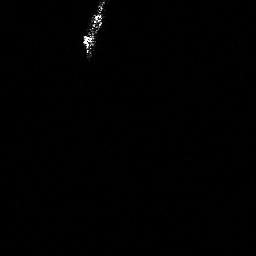ship: (80, 1, 108, 63)
